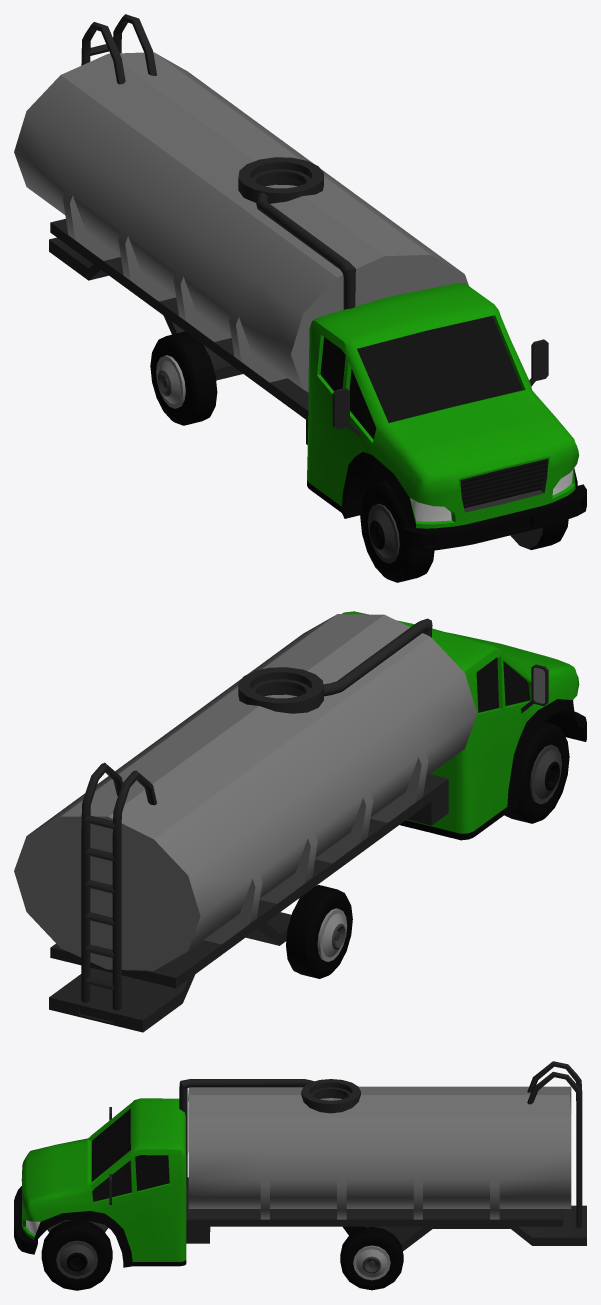
Rendered from vehicle_3.fbx.
3 renders of one model, top to bottom at view 1: azimuth 30°, elevation 25°; view 2: azimuth 150°, elevation 25°; view 3: azimuth 270°, elevation 25°, orthographic. The views are drawn at different scales.
Parts seen in each view (by area): view 1: Tank, Truck, Tire_4, Tire_2, Tire_1; view 2: Tank, Truck, Tire_4, Tire_2; view 3: Tank, Truck, Tire_1, Tire_3.
Boxes of the visible parts, x1,y1,x2,y2 form: Tank: (14,14,468,444); Truck: (307,283,586,550); Tire_4: (150,331,217,425); Tire_2: (360,480,434,582); Tire_1: (510,519,568,549); Tank: (14,614,477,1032); Truck: (342,611,586,840); Tire_4: (286,885,352,978); Tire_2: (504,721,569,823); Tank: (179,1061,586,1251); Truck: (14,1098,186,1267); Tire_1: (41,1220,112,1290); Tire_3: (340,1226,403,1290).
Bounding box in the file's own units: 178 × 228 × 597.
